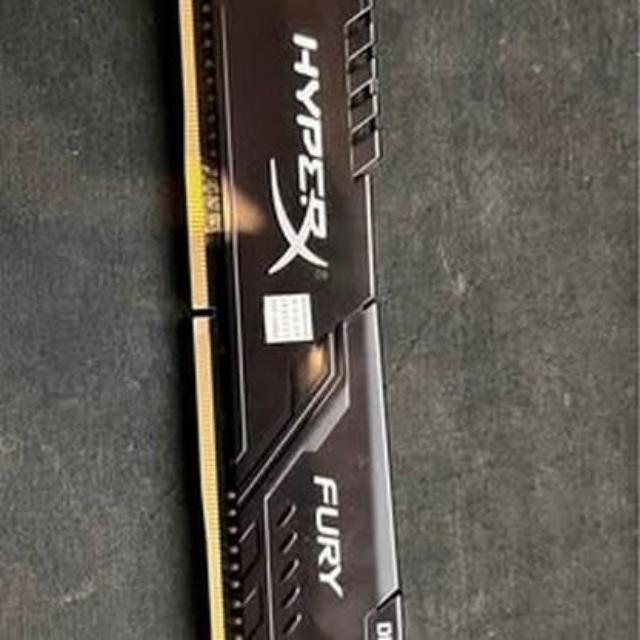RAM: (166, 0, 414, 640)
